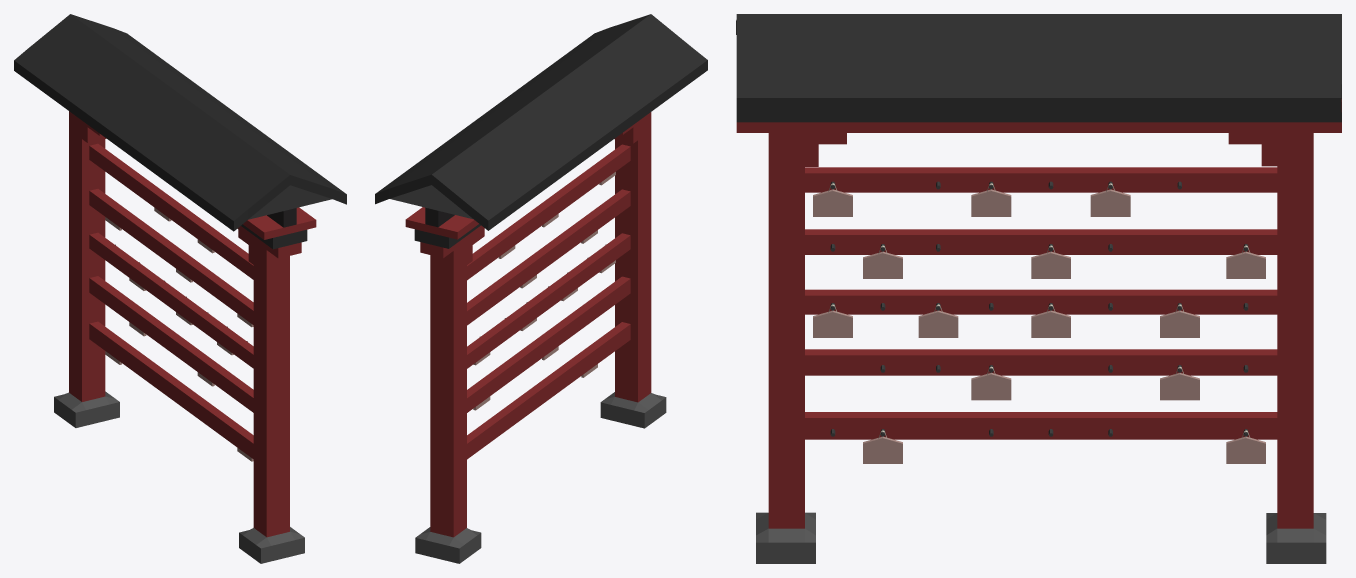
Rendered from Luna_JapanPrayer.fbx.
The picture shows the model from 3 angles, left to right: view 1: azimuth 30°, elevation 25°; view 2: azimuth 150°, elevation 25°; view 3: azimuth 270°, elevation 25°; orthographic projection. The views are drawn at different scales.
Visible parts, largest first — view 1: DAK, blaken, Cube, boeten, we dont talk about balk, tablets, Balk 4, blak dak; view 2: DAK, Cube, blaken, boeten, we dont talk about balk, tablets, Balk 4, blak dak; view 3: blaken, DAK, Cube, tablets, blak dak, Balk 4, boeten, spijk.
Part boxes in pixels (x1=…): DAK: x1=14, y1=14, x2=346, y2=231; blaken: x1=89, y1=143, x2=253, y2=458; Cube: x1=69, y1=111, x2=289, y2=537; boeten: x1=54, y1=391, x2=304, y2=563; we dont talk about balk: x1=243, y1=207, x2=316, y2=239; tablets: x1=105, y1=207, x2=253, y2=461; Balk 4: x1=241, y1=224, x2=307, y2=249; blak dak: x1=237, y1=226, x2=301, y2=258; DAK: x1=375, y1=14, x2=707, y2=230; Cube: x1=430, y1=112, x2=651, y2=537; blaken: x1=467, y1=144, x2=630, y2=459; boeten: x1=415, y1=392, x2=666, y2=563; we dont talk about balk: x1=405, y1=207, x2=478, y2=239; tablets: x1=473, y1=172, x2=615, y2=410; Balk 4: x1=414, y1=224, x2=480, y2=248; blak dak: x1=420, y1=225, x2=484, y2=258; blaken: x1=805, y1=167, x2=1277, y2=439; DAK: x1=736, y1=14, x2=1341, y2=112; Cube: x1=768, y1=133, x2=1313, y2=528; tablets: x1=813, y1=189, x2=1265, y2=463; blak dak: x1=736, y1=122, x2=1341, y2=132; Balk 4: x1=736, y1=112, x2=1341, y2=122; boeten: x1=756, y1=512, x2=1326, y2=563; spijk: x1=830, y1=181, x2=1248, y2=436.
Size of the model in its own units: 1.28 by 4.2 by 4.31.
